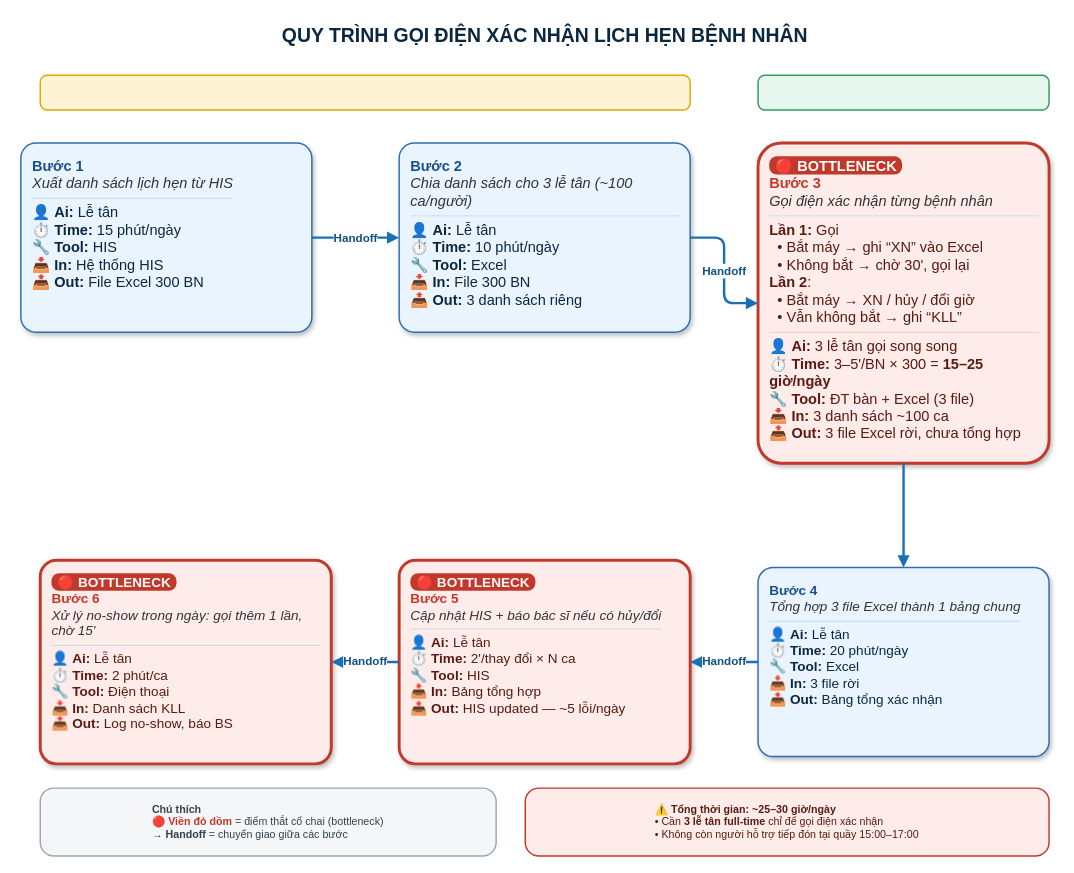
This 1074x873 diagram has some shape labels left out. The shapes that lost their labels are listed below. From the top down, each one's centre as x and y in pixels, then its label:
[364,92]: 16:00 HÔM TRƯỚC — Chuẩn bị dữ liệu
[903,92]: 7:30 – 11:30 HÔM SAU — Thực thi
